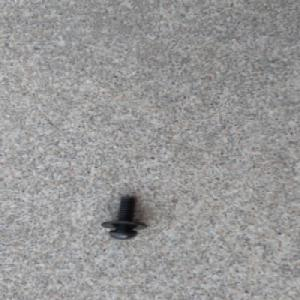BoltWasher: (100, 195, 149, 241)
